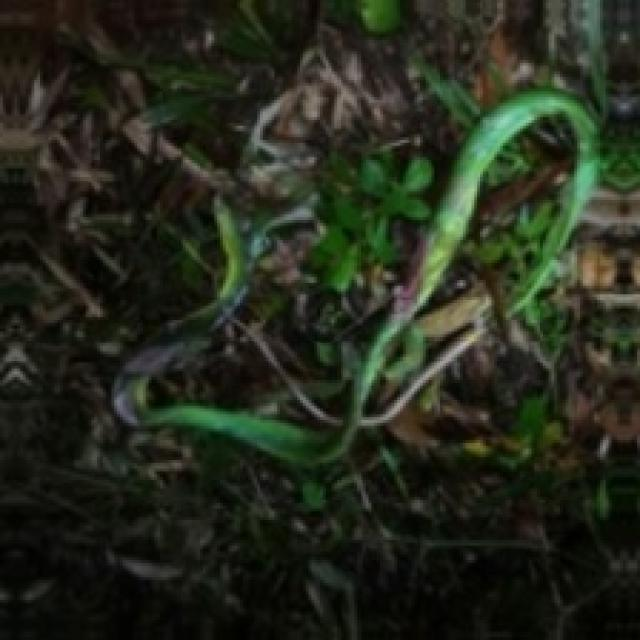red-tailed green ratsnake: (114, 89, 597, 466)
